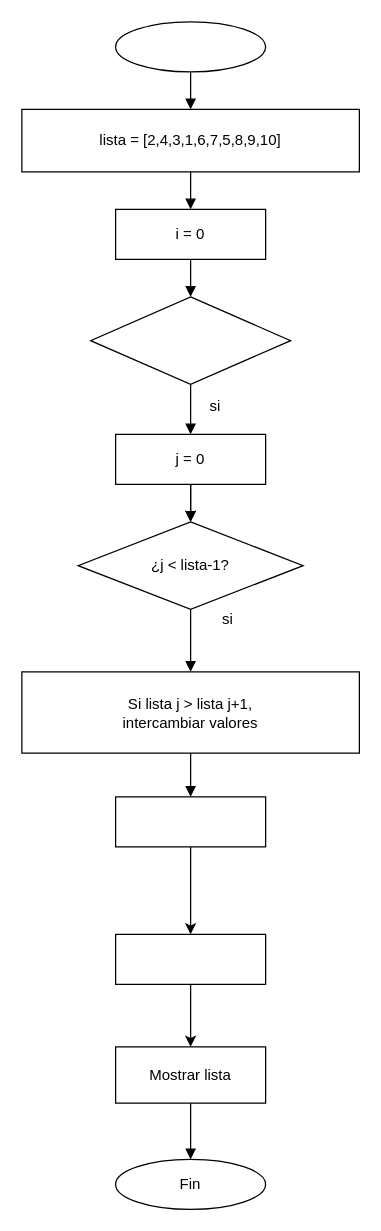
Some shapes in this 381 by 1231 pixel diagram are drawn without their labels. Here are the shapes that lost their labels. From the top down, the box of each, then its label:
(114, 21, 266, 72): Inicio
(89, 296, 291, 384): ¿i < lista?
(114, 796, 266, 847): j = j + 1
(114, 933, 266, 984): i = i + 1
